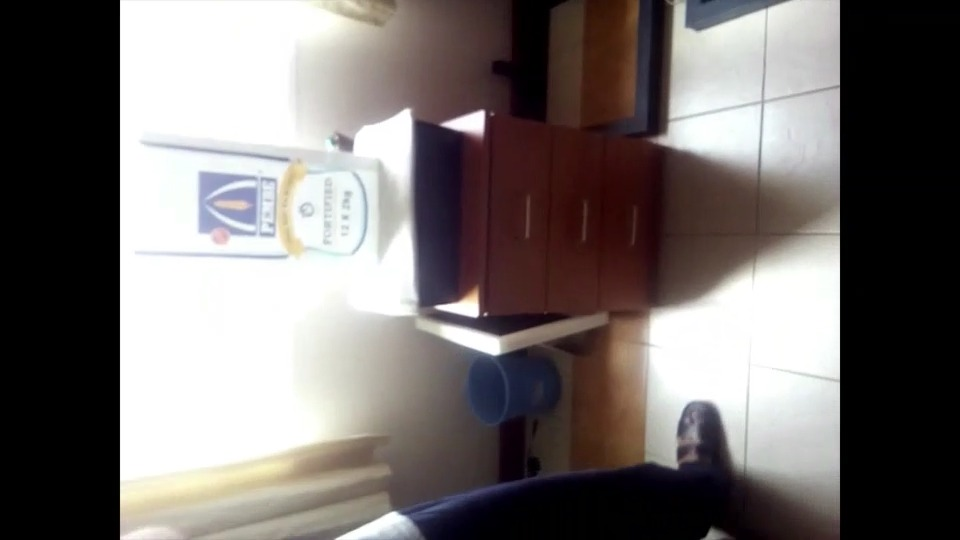wheat_flour_blue_label: (114, 137, 382, 264)
